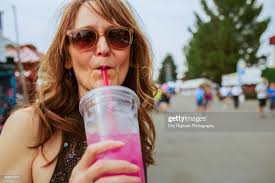white_female: (63, 21, 153, 94)
